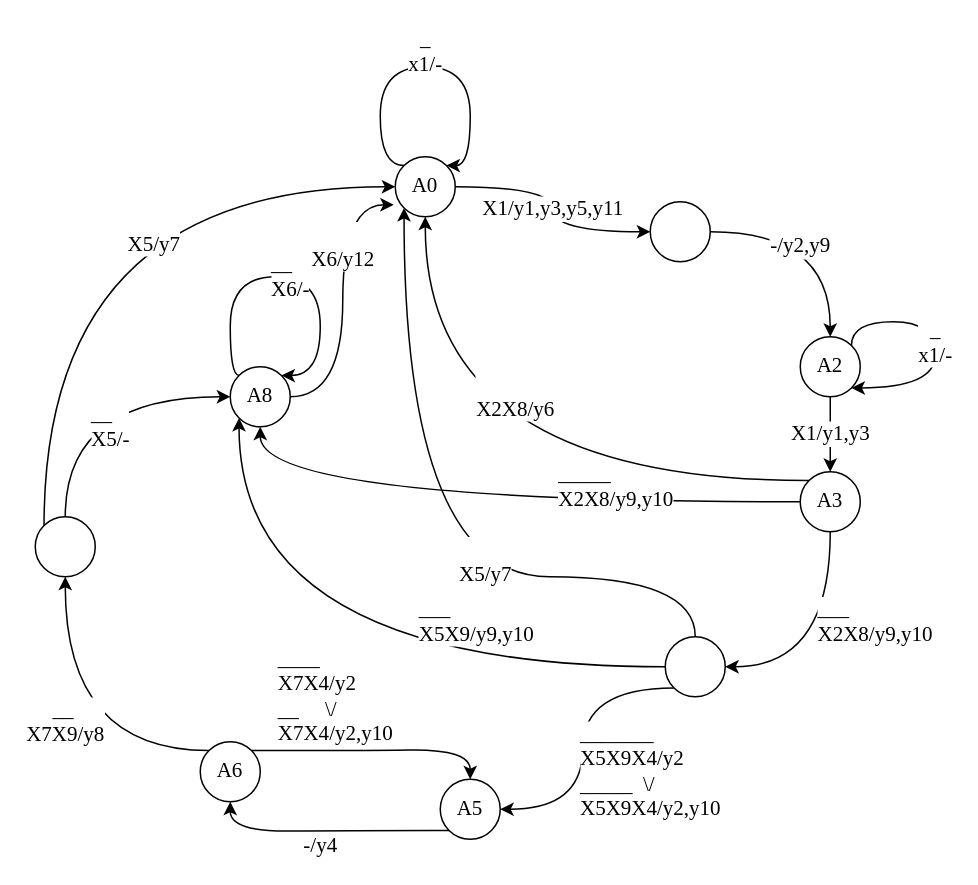
The diagram is 978 pixels wide and 885 high, and some of its shapes have lost their labels. Each missing label, with the centre of its shape:
A1: pixel 679 231
A4: pixel 694 666
A7: pixel 64 546
